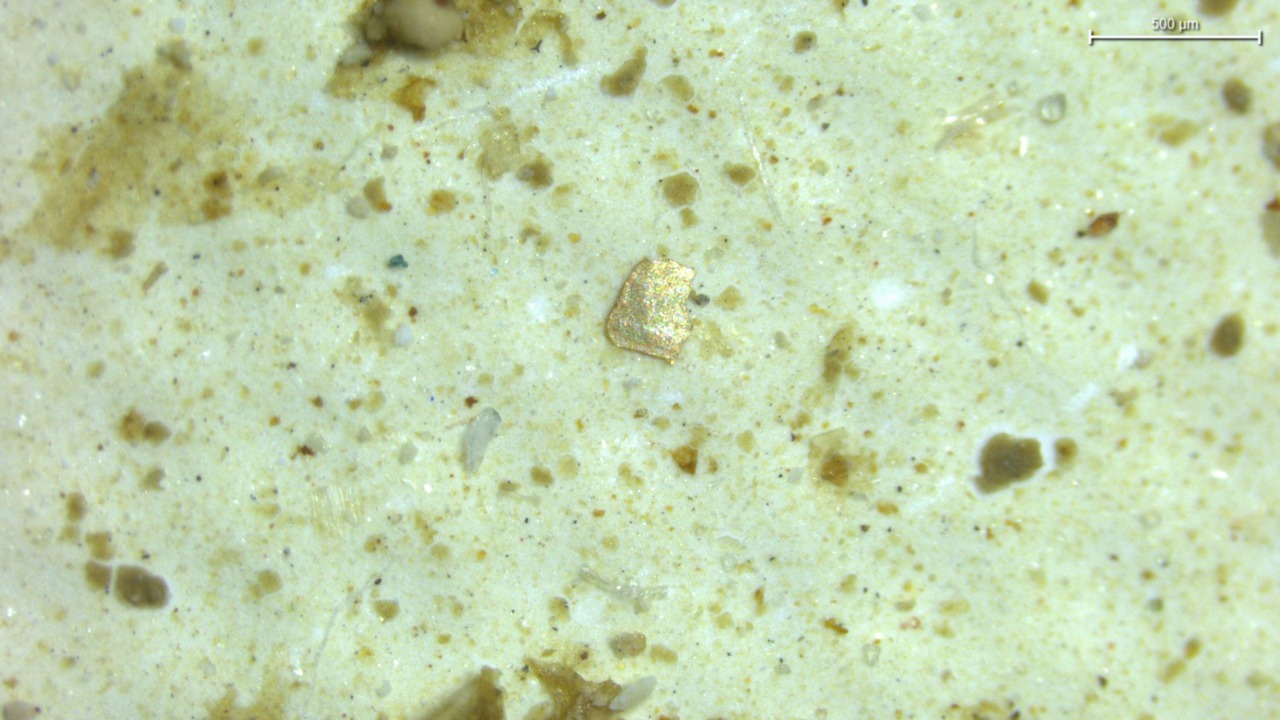microplastic_fragment: (0, 210, 139, 286), (605, 259, 694, 363), (462, 408, 501, 473), (477, 121, 521, 178), (608, 676, 657, 712), (136, 265, 164, 294), (394, 324, 412, 346)
